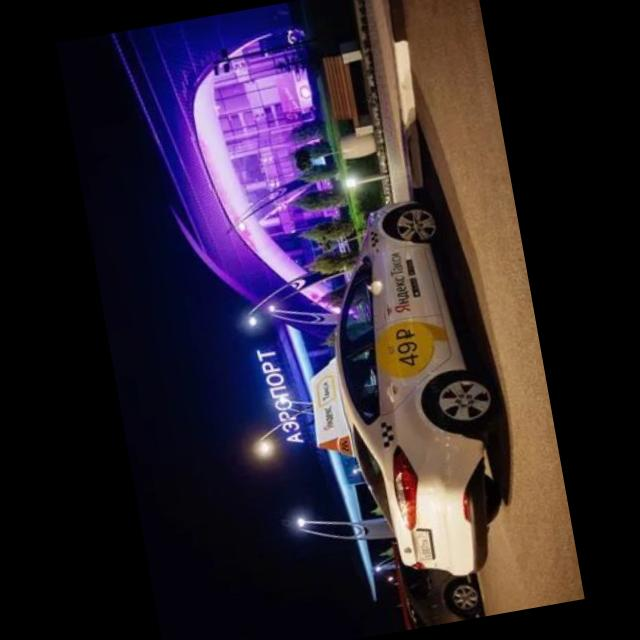taxi: (277, 190, 529, 599)
